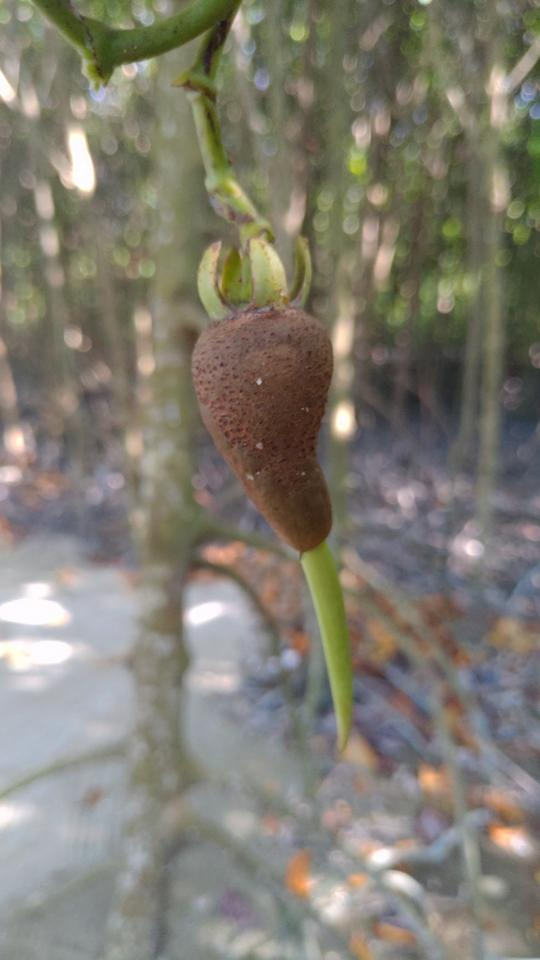mentah: (185, 221, 367, 769)
